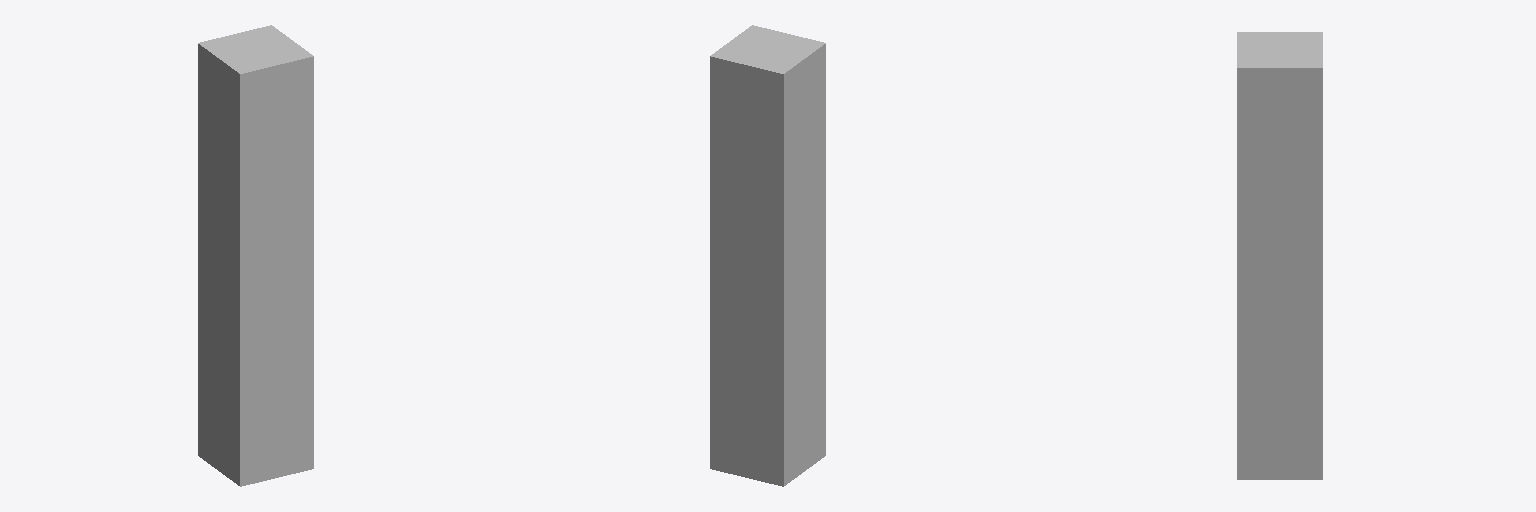
Rendered from skeleton_test2.obj.
The picture shows the model from 3 angles: view 1: azimuth 30°, elevation 25°; view 2: azimuth 150°, elevation 25°; view 3: azimuth 270°, elevation 25°; orthographic projection.
Visible parts, largest first — view 1: Cube_Cube.001; view 2: Cube_Cube.001; view 3: Cube_Cube.001.
Part boxes in pixels (left/top/right/bottom): Cube_Cube.001: left=198, top=25, right=313, bottom=486; Cube_Cube.001: left=710, top=25, right=825, bottom=486; Cube_Cube.001: left=1237, top=32, right=1322, bottom=479.
Bounding box in the file's own units: 2 × 10.68 × 2.